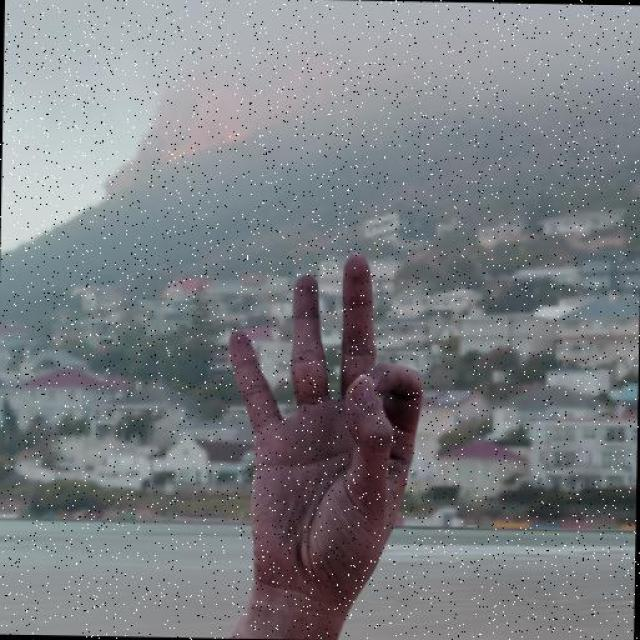F: (218, 244, 432, 607)
